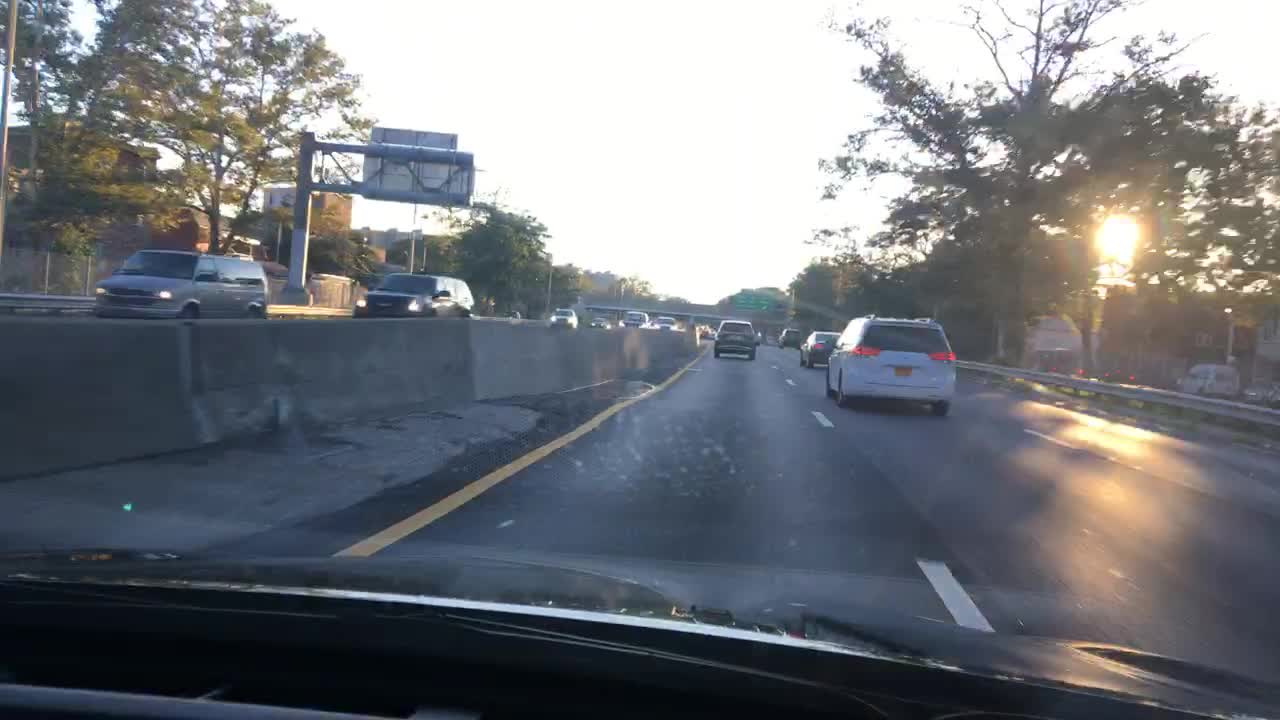car: (823, 314, 955, 415), (92, 248, 268, 318), (350, 272, 474, 319), (1179, 359, 1239, 396), (710, 319, 756, 359), (796, 330, 838, 366), (1100, 361, 1139, 384), (1043, 358, 1085, 374), (546, 306, 577, 326), (776, 326, 803, 348), (618, 309, 646, 326), (652, 314, 677, 328), (586, 316, 611, 326), (752, 326, 762, 344), (698, 324, 709, 339), (707, 329, 717, 344)
traffic sign: (361, 145, 476, 204), (371, 126, 456, 149), (733, 291, 773, 310)
